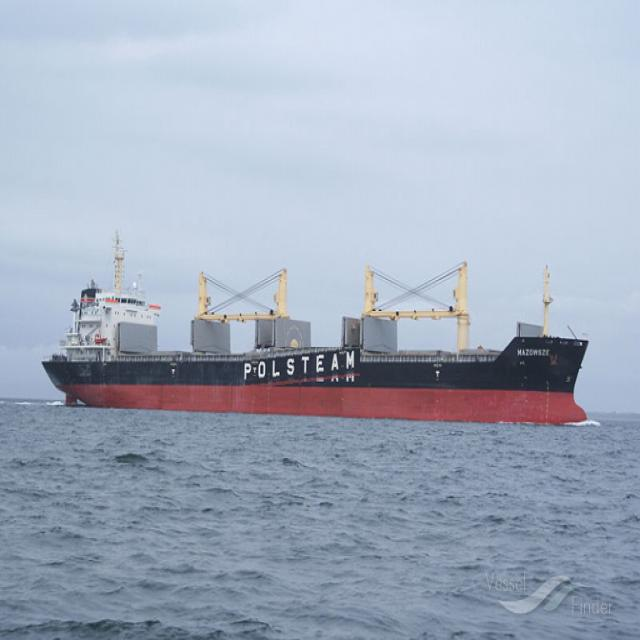OCR: (238, 347, 360, 390)
